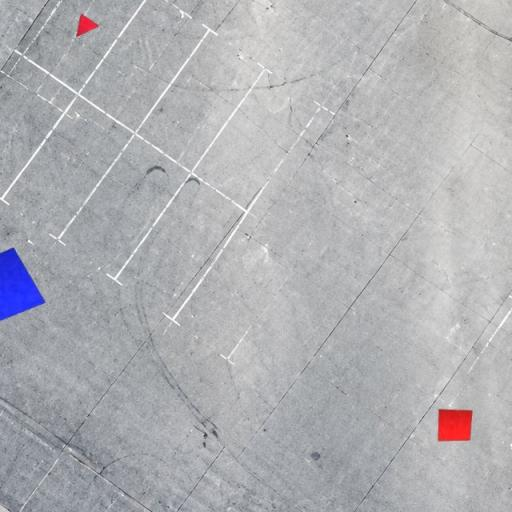BLUE_SQUARE: (0, 247, 46, 328)
RED_SQUARE: (438, 408, 472, 442)
